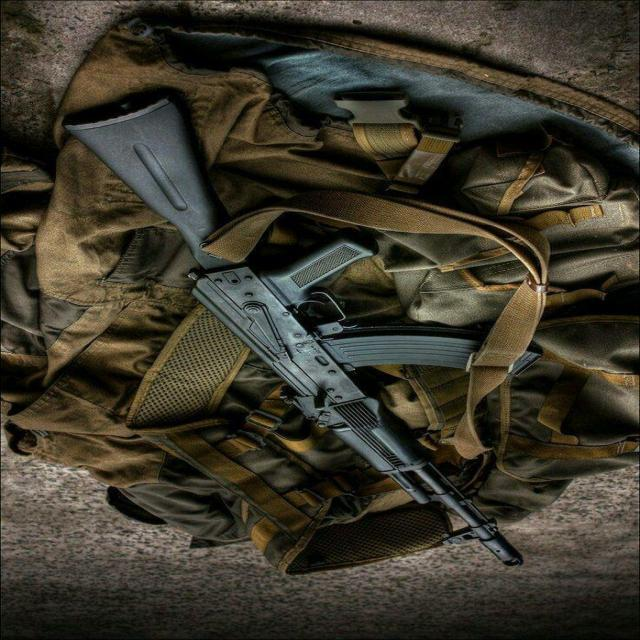weapon: (59, 87, 525, 568)
